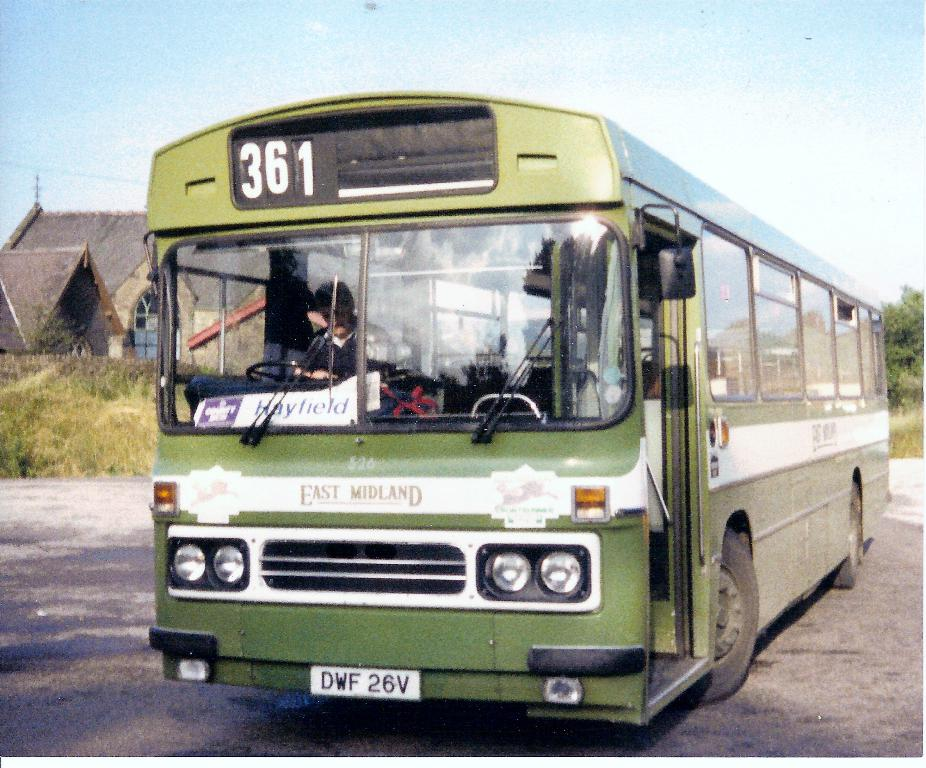Bus: (141, 88, 891, 726)
